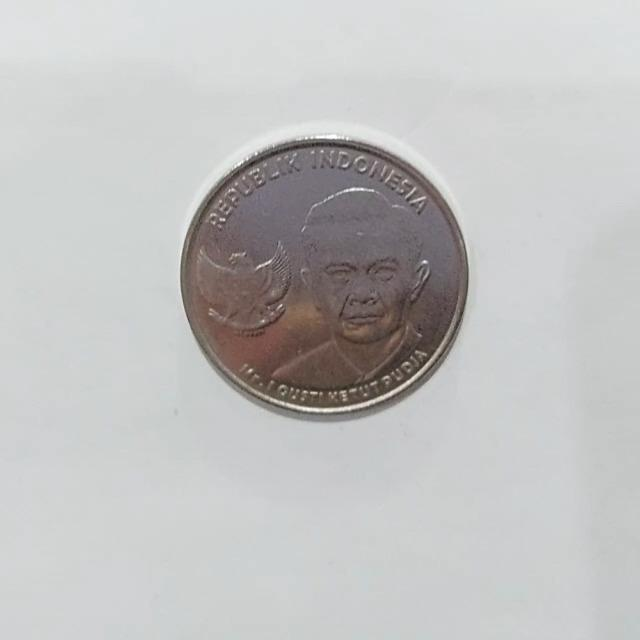Rp100: (179, 128, 470, 419)
